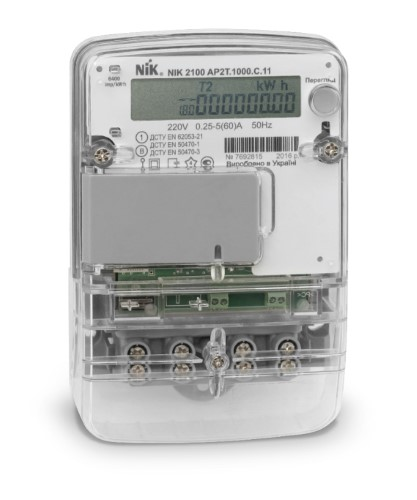counter: (74, 27, 352, 434)
counter_screen: (128, 76, 304, 121)
